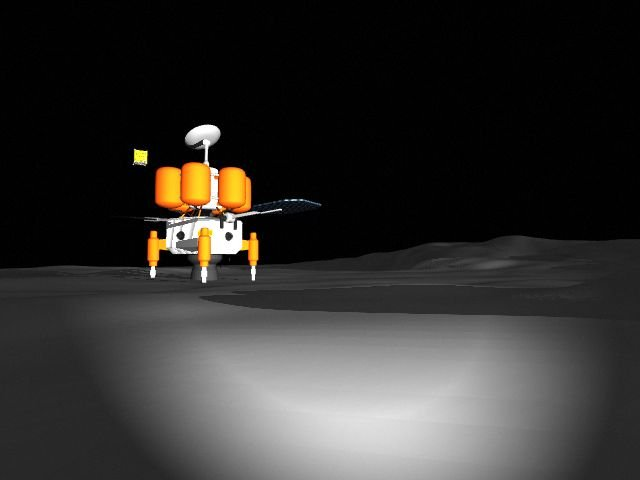cubesat: (128, 143, 149, 169)
